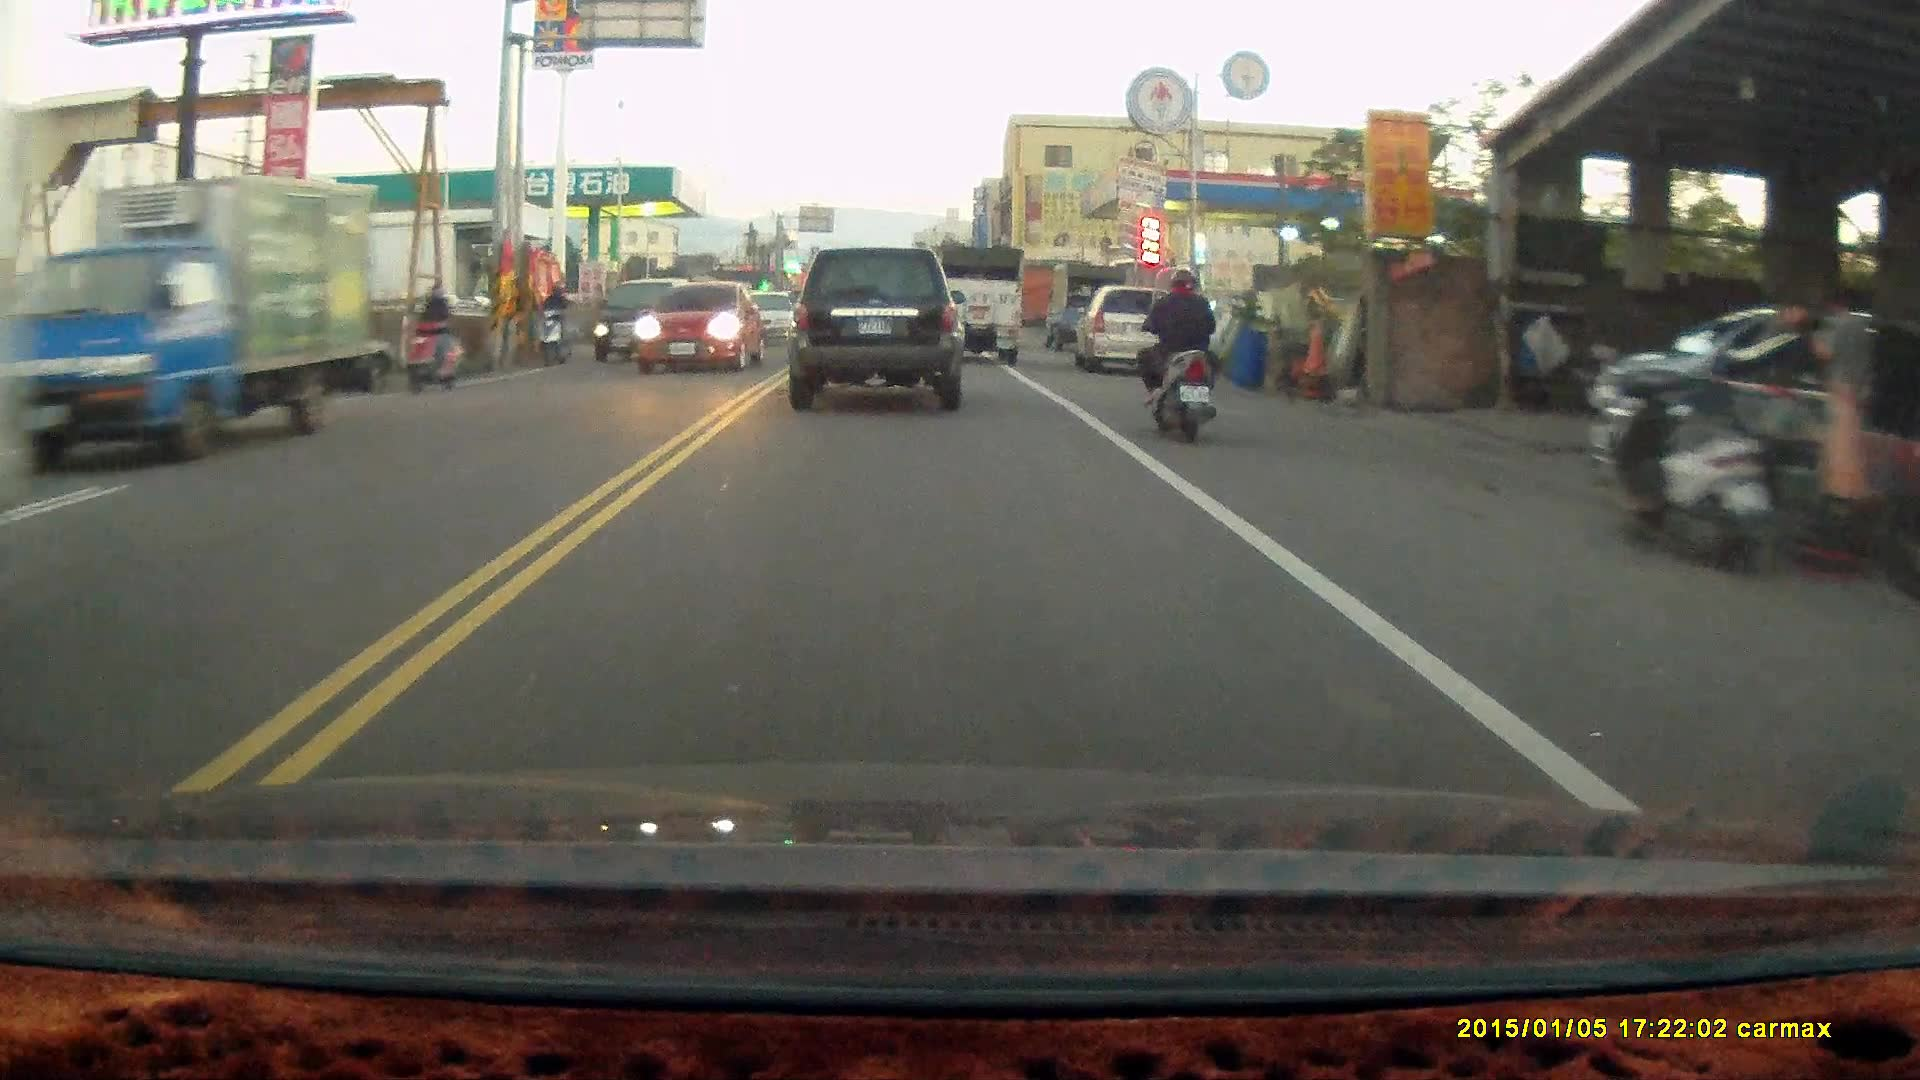pedestrian: (1811, 286, 1871, 447)
rider: (1137, 267, 1230, 446), (394, 282, 471, 392), (538, 283, 577, 364)
vehicle: (24, 168, 374, 461), (784, 243, 966, 411), (641, 284, 773, 380), (933, 243, 1025, 365), (1077, 285, 1185, 376), (593, 276, 695, 362)
